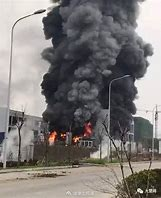smoke: (40, 1, 153, 132)
